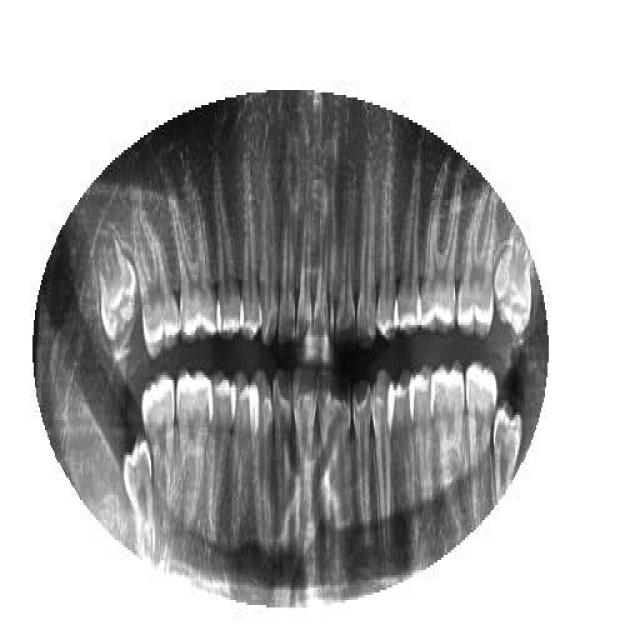Impacted Tooth: (96, 235, 142, 350), (493, 228, 535, 338), (122, 432, 156, 562)
